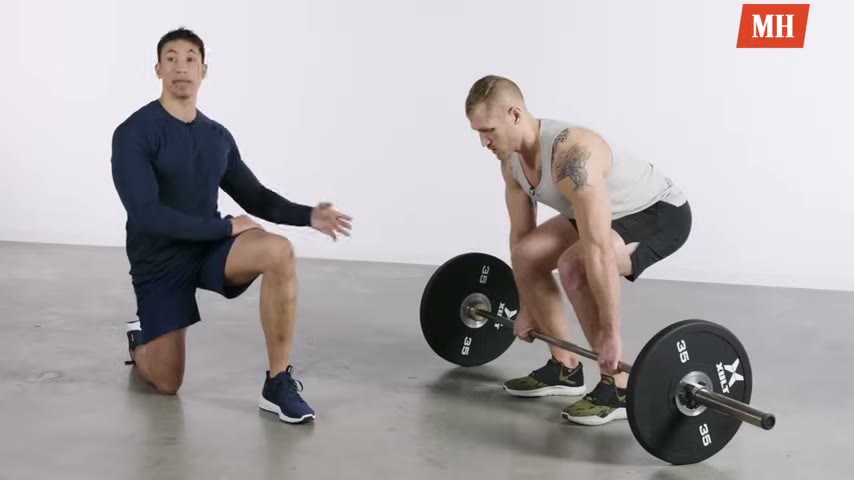barbell_plate_side: (413, 249, 508, 457), (676, 315, 783, 471)
